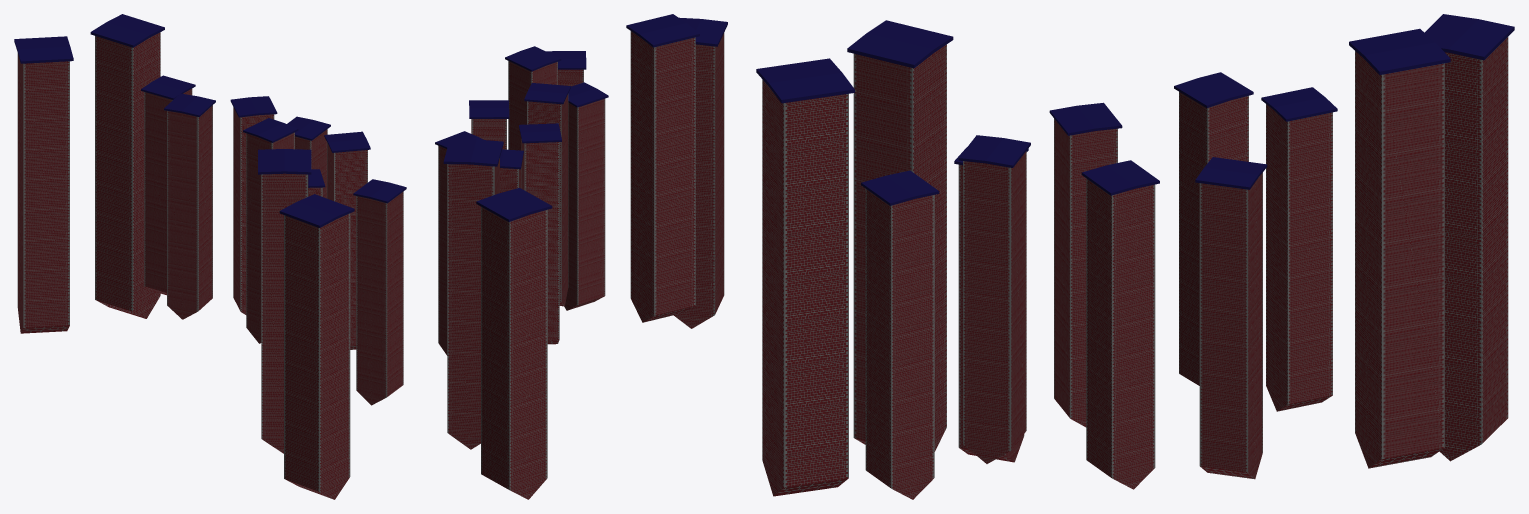
Rendered from skyfall_level_town.glb.
3 renders of one model, left to right at view 1: azimuth 30°, elevation 25°; view 2: azimuth 150°, elevation 25°; view 3: azimuth 270°, elevation 25°, orthographic. The views are drawn at different scales.
Visible parts, largest first — view 1: Cube.011, Cube.014, Cube.013, Cube.003, Cube.006, Cube.012, Cube.009, Cube.008, Cube.004, Cube.010, Cube.005; view 2: Cube.013, Cube.012, Cube.014, Cube.011, Cube.007, Cube.006, Cube.008, Cube.004, Cube.010, Cube.005, Cube.003, Cube.009; view 3: Cube.014, Cube.011, Cube.013, Cube.003, Cube.005, Cube.009, Cube.012, Cube.004, Cube.010, Cube.008, Cube.006, Cube.007.
Boxes of the visible parts, x1,y1,x2,y2 form: Cube.011: (279, 194, 354, 499); Cube.014: (90, 14, 164, 318); Cube.013: (14, 36, 73, 333); Cube.003: (353, 179, 406, 405); Cube.006: (164, 93, 215, 319); Cube.012: (258, 149, 311, 453); Cube.009: (141, 75, 195, 295); Cube.008: (243, 118, 298, 343); Cube.004: (324, 131, 370, 349); Cube.010: (230, 96, 277, 314); Cube.005: (287, 116, 330, 198); Cube.013: (476, 188, 552, 499); Cube.012: (626, 14, 699, 322); Cube.014: (443, 139, 503, 449); Cube.011: (674, 17, 727, 328); Cube.007: (564, 82, 608, 310); Cube.006: (519, 123, 561, 344); Cube.008: (524, 83, 570, 306); Cube.004: (505, 46, 561, 150); Cube.010: (435, 131, 483, 355); Cube.005: (469, 100, 509, 149); Cube.003: (546, 51, 586, 86); Cube.009: (500, 149, 523, 192); Cube.014: (1349, 28, 1450, 468); Cube.011: (756, 58, 854, 496); Cube.013: (1424, 14, 1514, 461); Cube.003: (861, 170, 939, 499); Cube.005: (1081, 160, 1159, 489); Cube.009: (1261, 87, 1337, 411); Cube.012: (847, 20, 953, 451); Cube.004: (958, 135, 1030, 463); Cube.010: (1195, 157, 1267, 479); Cube.008: (1049, 102, 1122, 427); Cube.006: (1174, 72, 1253, 385); Cube.007: (954, 147, 1028, 462).
Bounding box in the file's own units: 69.05 × 105 × 159.
2 materials, 1 textured.
